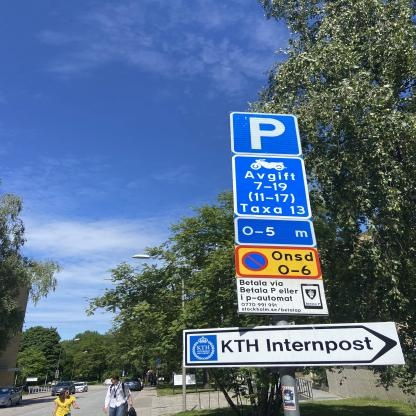P-skylt: (229, 109, 303, 157)
